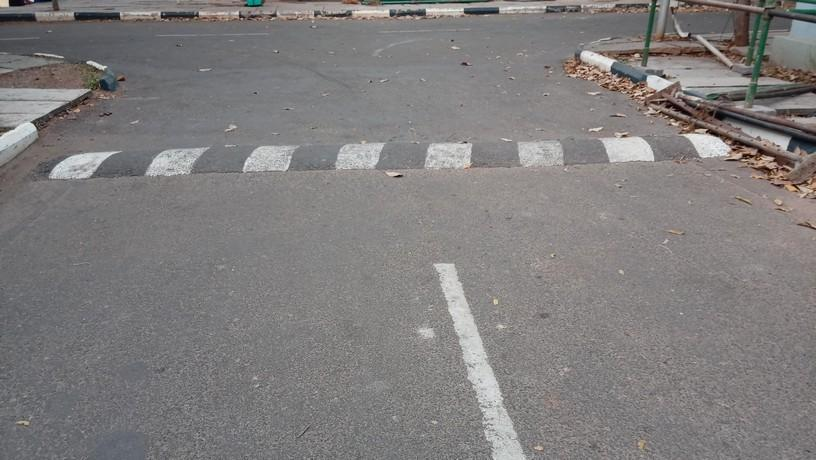speedbreaker: (36, 130, 736, 179)
